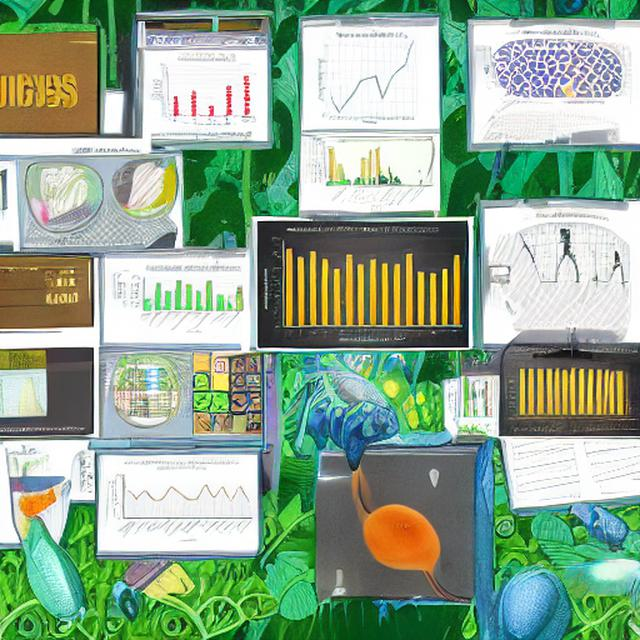Graph: (258, 223, 468, 348), (304, 27, 437, 127), (107, 458, 255, 546), (126, 264, 247, 333), (150, 56, 256, 128)
